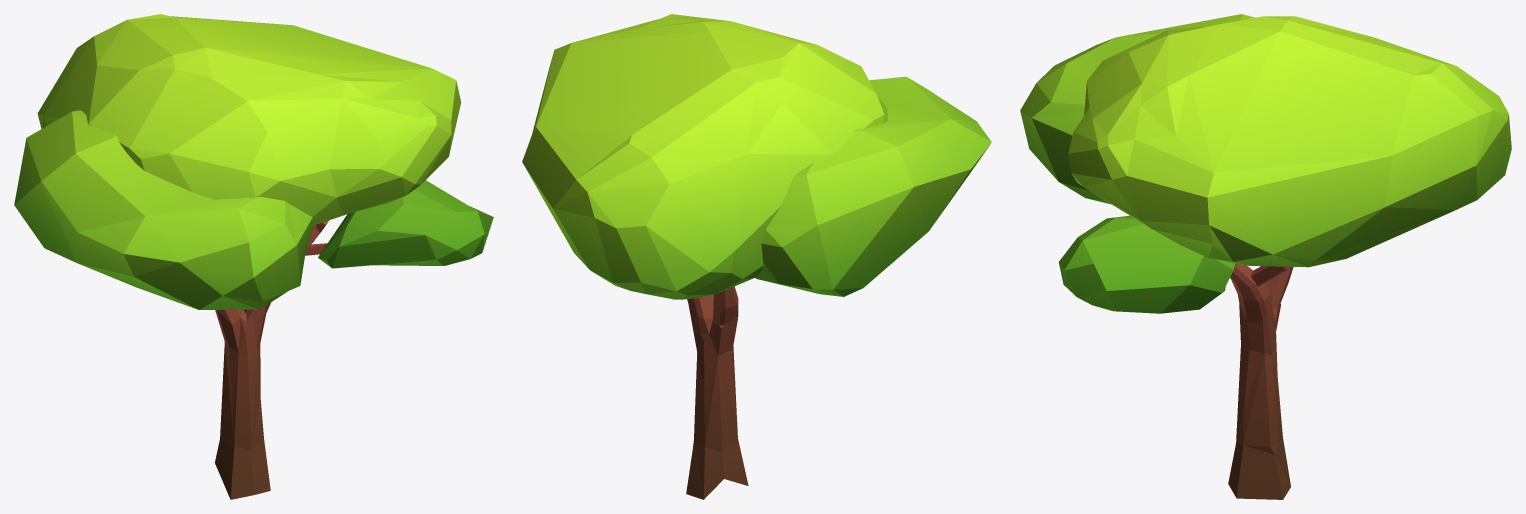
The model's file is samor_4077_133_Spreading.fbx.
3 views of the same model, side by side, from view 1: azimuth 30°, elevation 25°; view 2: azimuth 150°, elevation 25°; view 3: azimuth 270°, elevation 25° (orthographic). The views are drawn at different scales.
Visible parts, largest first — view 1: samor_4077_133_Spreading; view 2: samor_4077_133_Spreading; view 3: samor_4077_133_Spreading.
Boxes of the visible parts, bbox=[...] form: samor_4077_133_Spreading: bbox=[14, 14, 493, 499]; samor_4077_133_Spreading: bbox=[522, 14, 991, 499]; samor_4077_133_Spreading: bbox=[1020, 14, 1511, 499].
Bounding box in the file's own units: 9.49 × 9.82 × 9.81.
Materials: 1 (1 with a texture image).
